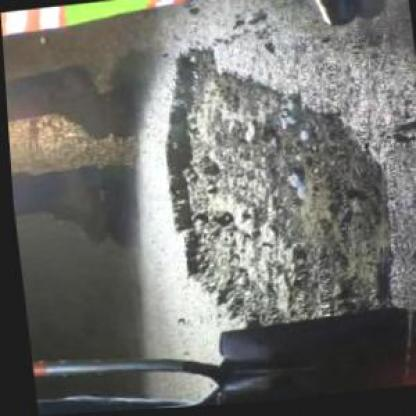pothole: (146, 27, 398, 361)
